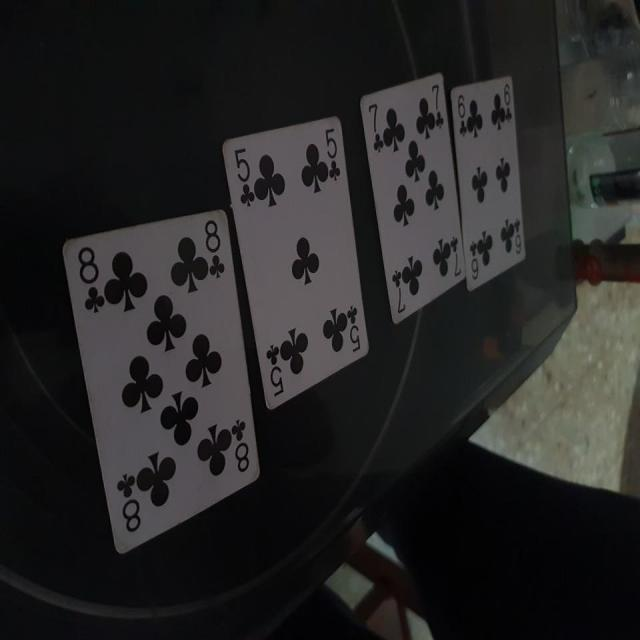5 Trefoils: (222, 113, 371, 412)
6 Trefoils: (450, 70, 528, 292)
7 Trefoils: (358, 73, 468, 326)
8 Trefoils: (61, 205, 262, 558)
